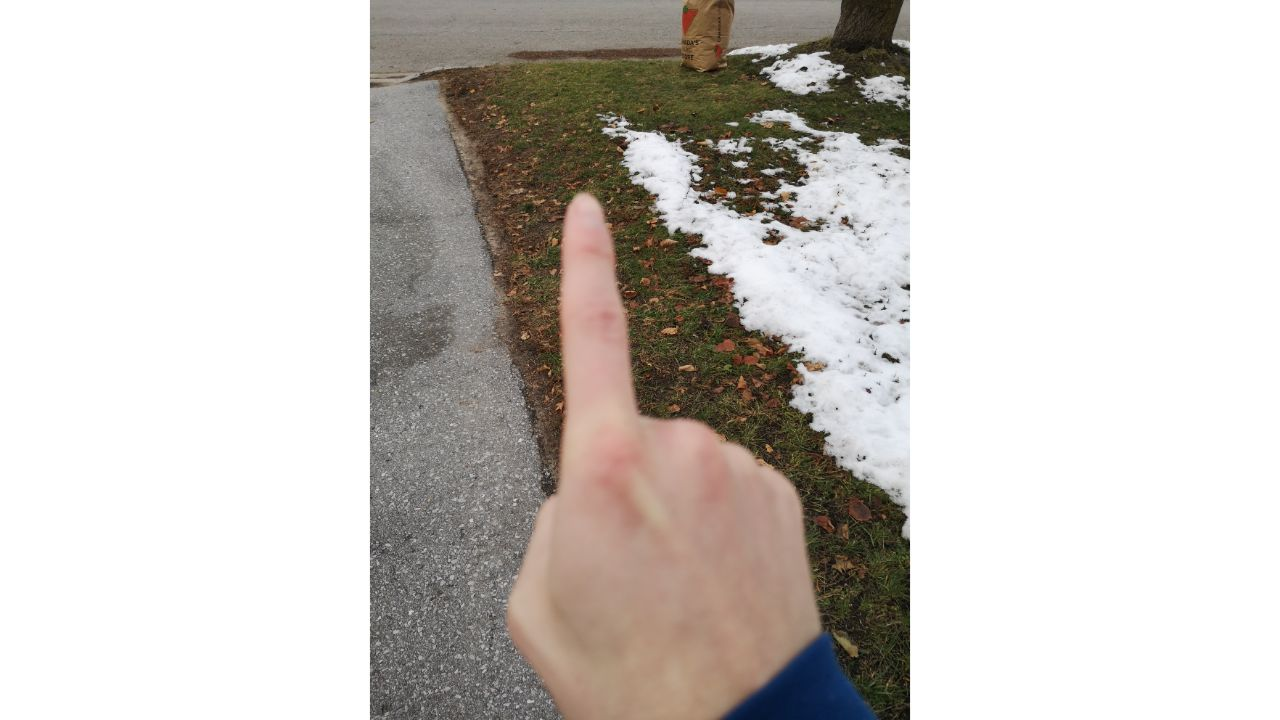finger: (506, 184, 848, 720)
